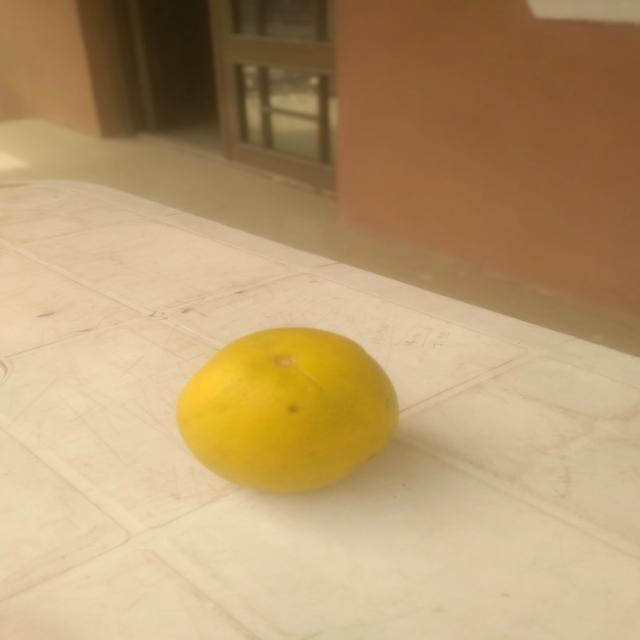Ripe orange: (172, 322, 408, 502)
